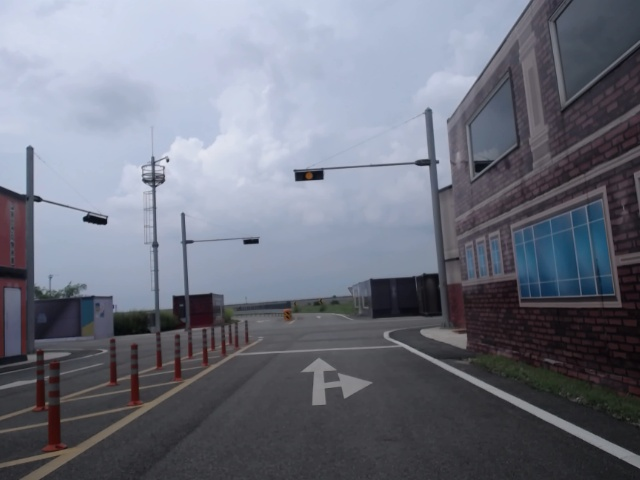orange_3: (294, 169, 324, 182)
